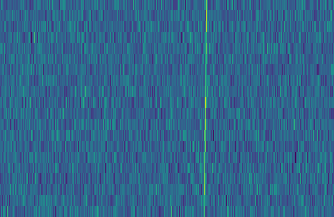signal: (200, 0, 211, 217)
